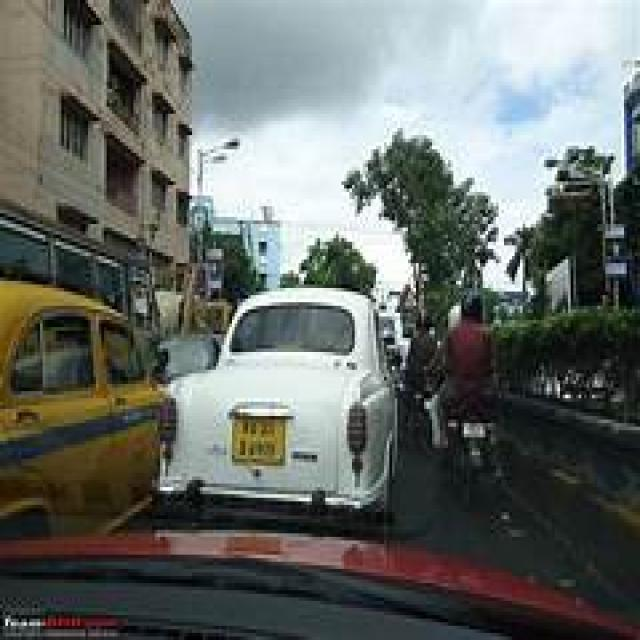Bus: (0, 211, 151, 316)
Car: (0, 281, 640, 638)
Two Wheeler: (426, 373, 495, 506)
